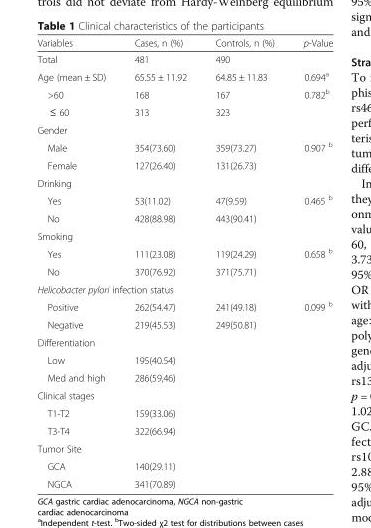table: (36, 36, 332, 489)
table column: (200, 36, 288, 489), (36, 36, 119, 489), (119, 36, 200, 489), (288, 36, 332, 489)
table column header: (36, 36, 332, 50)
table projected row header: (36, 333, 332, 351), (36, 386, 332, 404), (36, 439, 332, 457), (36, 120, 332, 137), (36, 173, 332, 190), (36, 280, 332, 297), (36, 227, 332, 243)
table row: (36, 137, 332, 156), (36, 190, 332, 209), (36, 243, 332, 262), (36, 66, 332, 84), (36, 84, 332, 102), (36, 102, 332, 120), (36, 209, 332, 227), (36, 262, 332, 280), (36, 297, 332, 315), (36, 315, 332, 333), (36, 333, 332, 351), (36, 368, 332, 386), (36, 386, 332, 404), (36, 421, 332, 439), (36, 439, 332, 457), (36, 120, 332, 137), (36, 156, 332, 173), (36, 173, 332, 190), (36, 280, 332, 297), (36, 351, 332, 368), (36, 404, 332, 421), (36, 457, 332, 474), (36, 50, 332, 66), (36, 227, 332, 243), (36, 474, 332, 489), (36, 36, 332, 50)
